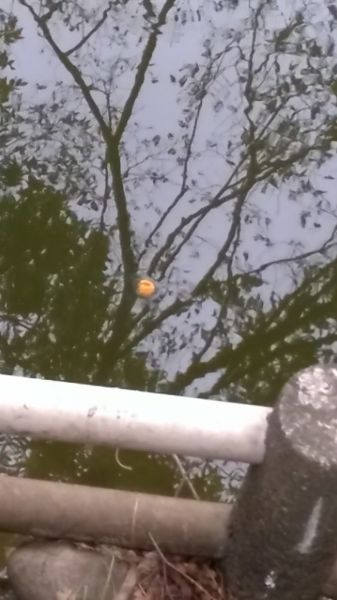eggs: (129, 273, 160, 300)
